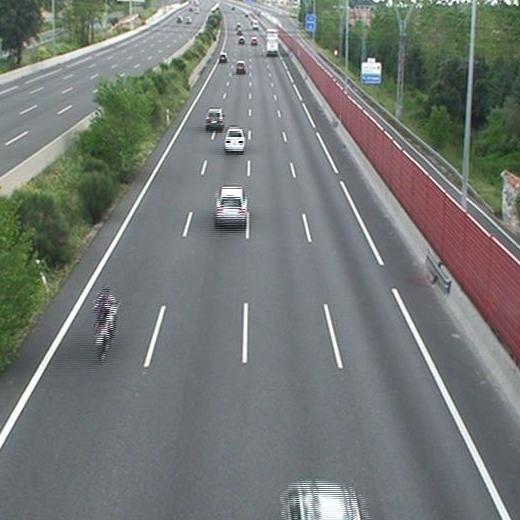car: (216, 187, 247, 225), (225, 128, 245, 151), (205, 109, 224, 128), (236, 61, 245, 72), (250, 37, 258, 46), (219, 53, 226, 63), (237, 37, 245, 44)
motorcycle: (92, 287, 118, 361)
small-truck: (266, 29, 279, 56)
